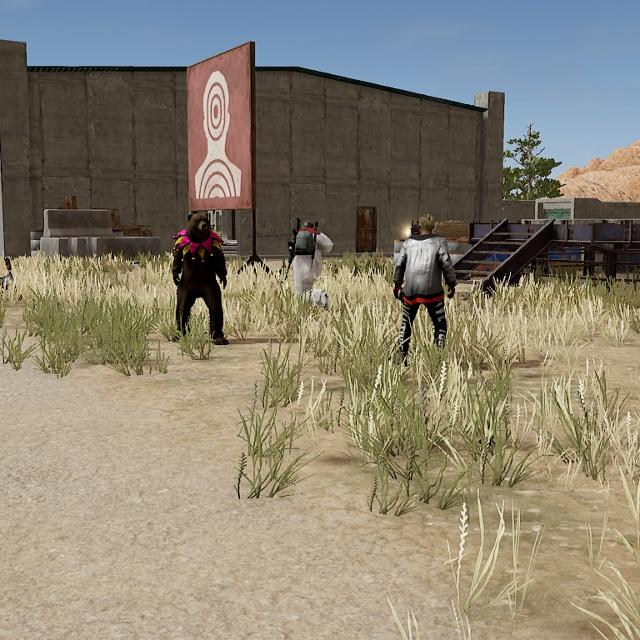head: (185, 211, 212, 241), (414, 212, 438, 236), (301, 217, 317, 233)
people: (390, 211, 458, 368), (169, 209, 231, 347), (288, 217, 333, 311)
